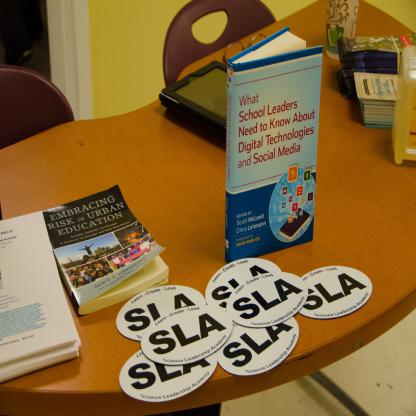book: (223, 24, 322, 268), (40, 179, 173, 312), (0, 210, 82, 388), (336, 28, 416, 95), (352, 70, 396, 134)
